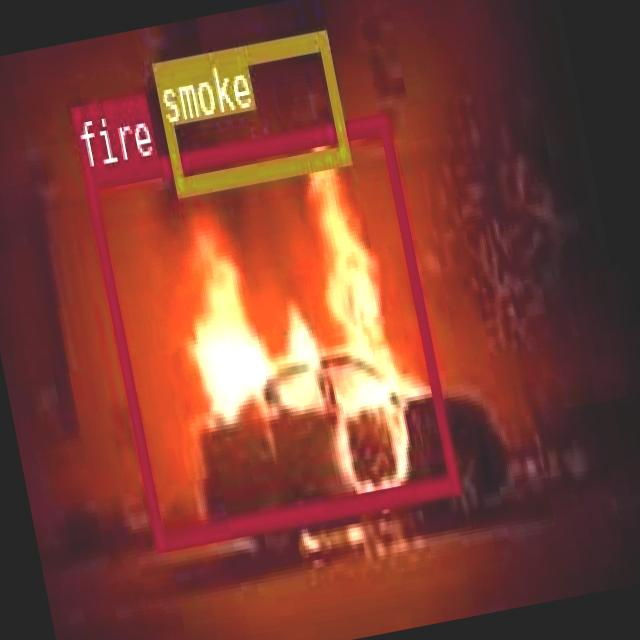fire: (82, 111, 457, 549)
smoke: (151, 27, 349, 195)
